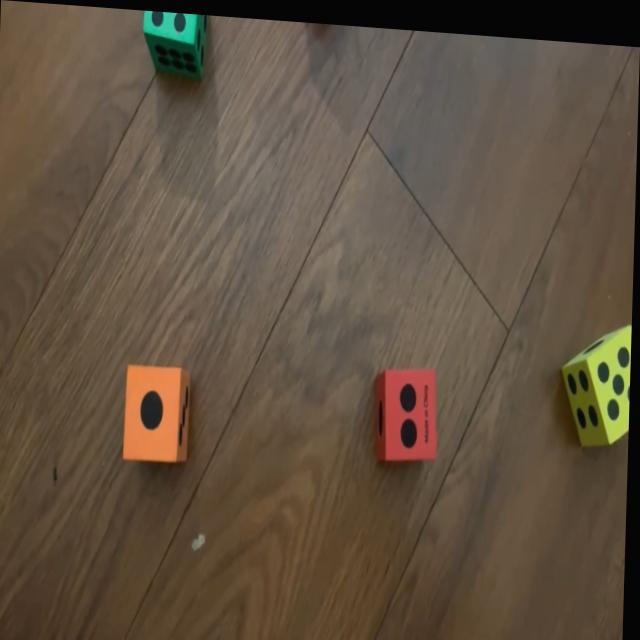cube: (377, 358, 441, 460), (140, 8, 210, 73)
